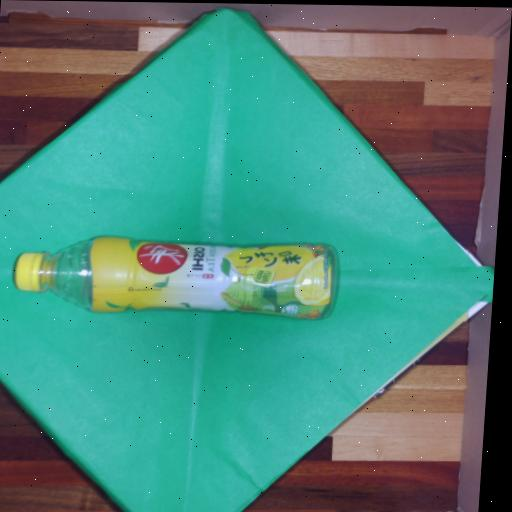bottle: (7, 231, 341, 322)
